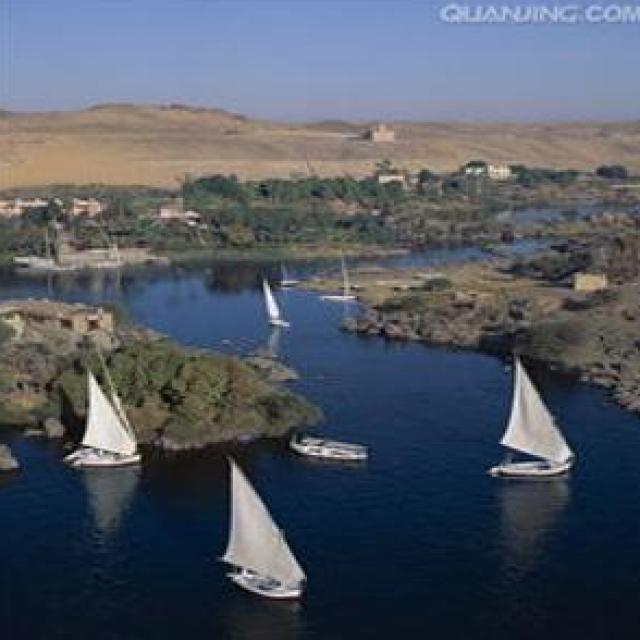sailboat: (223, 447, 308, 601), (486, 348, 580, 485), (67, 352, 140, 469), (252, 274, 293, 332)
